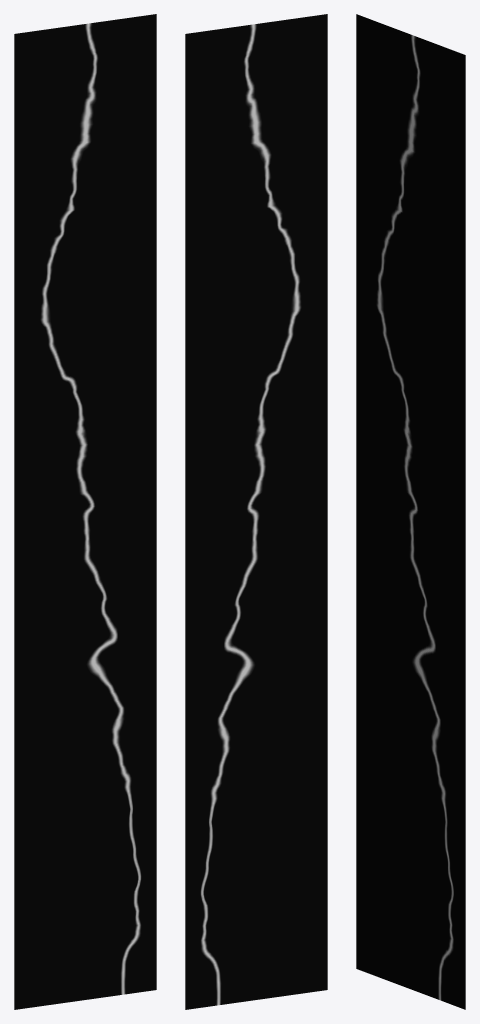
File: LightningMesh_A.fbx
3 renders of one model, left to right at view 1: azimuth 30°, elevation 25°; view 2: azimuth 210°, elevation 25°; view 3: azimuth 330°, elevation 25°, orthographic. The views are drawn at different scales.
Parts seen in each view (by area): view 1: LightningMesh_A; view 2: LightningMesh_A; view 3: LightningMesh_A.
Part boxes in pixels (box(x1,y1,x2,y2)): LightningMesh_A: box(14, 14, 156, 1009); LightningMesh_A: box(185, 14, 327, 1009); LightningMesh_A: box(356, 14, 465, 1009).
Size of the model in its own units: 0.1363 by 1 by 0.0281.
